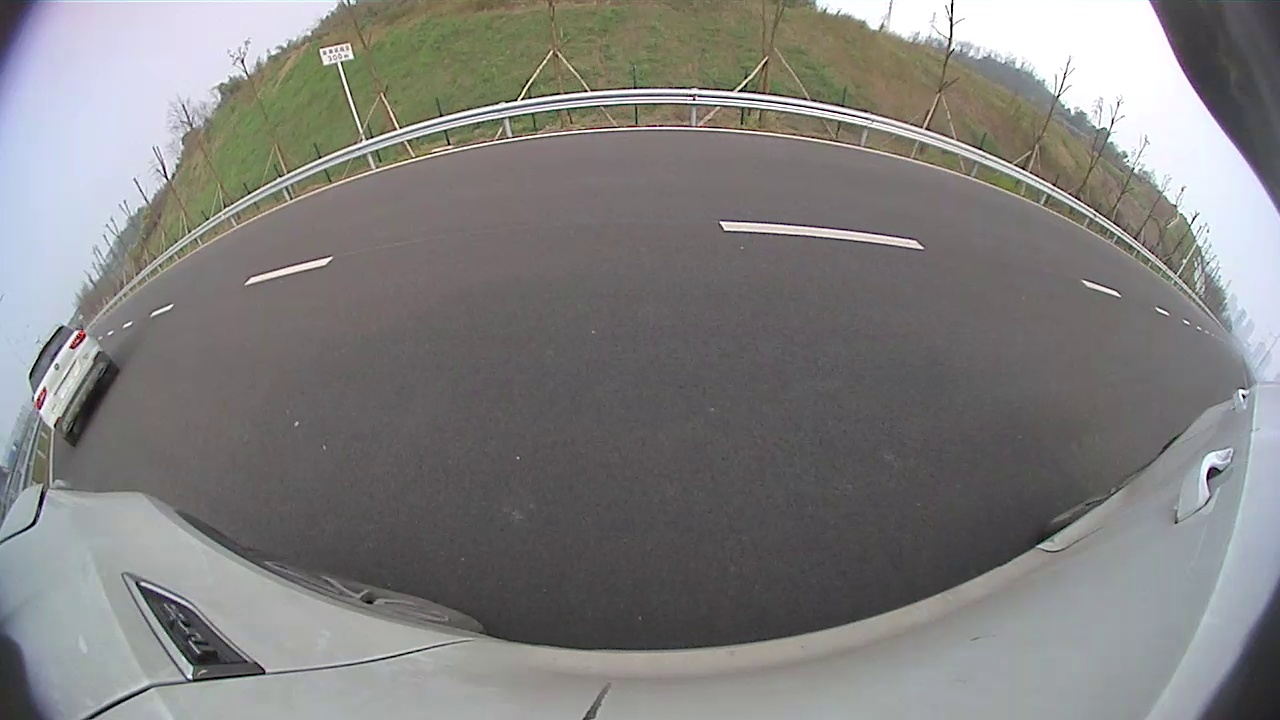car: (996, 177, 1134, 318)
rear: (1063, 272, 1096, 310)
